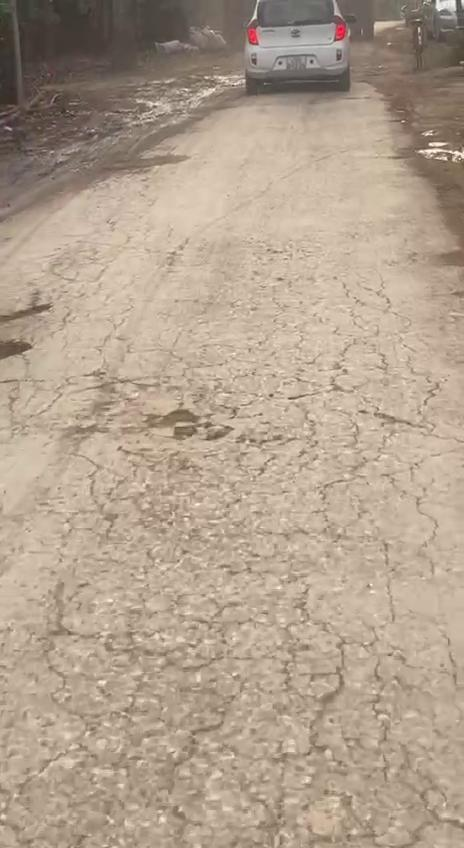pothole: (0, 296, 55, 366), (146, 405, 233, 444)
